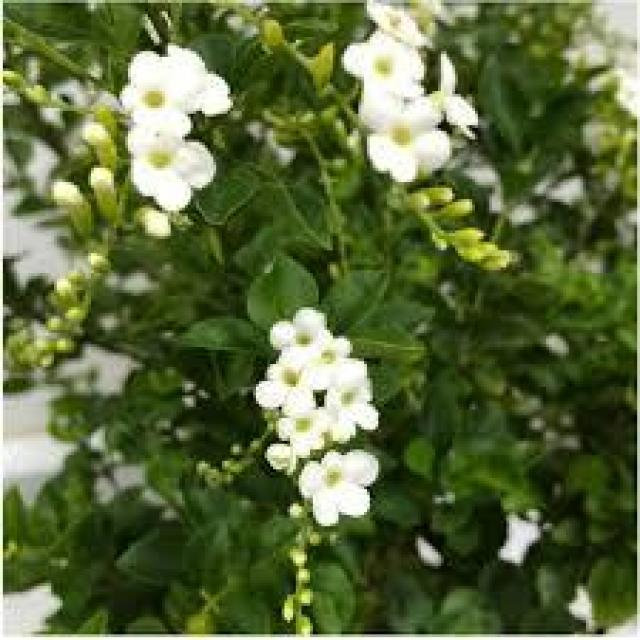organic waste: (264, 314, 392, 536), (116, 28, 242, 210), (350, 7, 455, 181)
